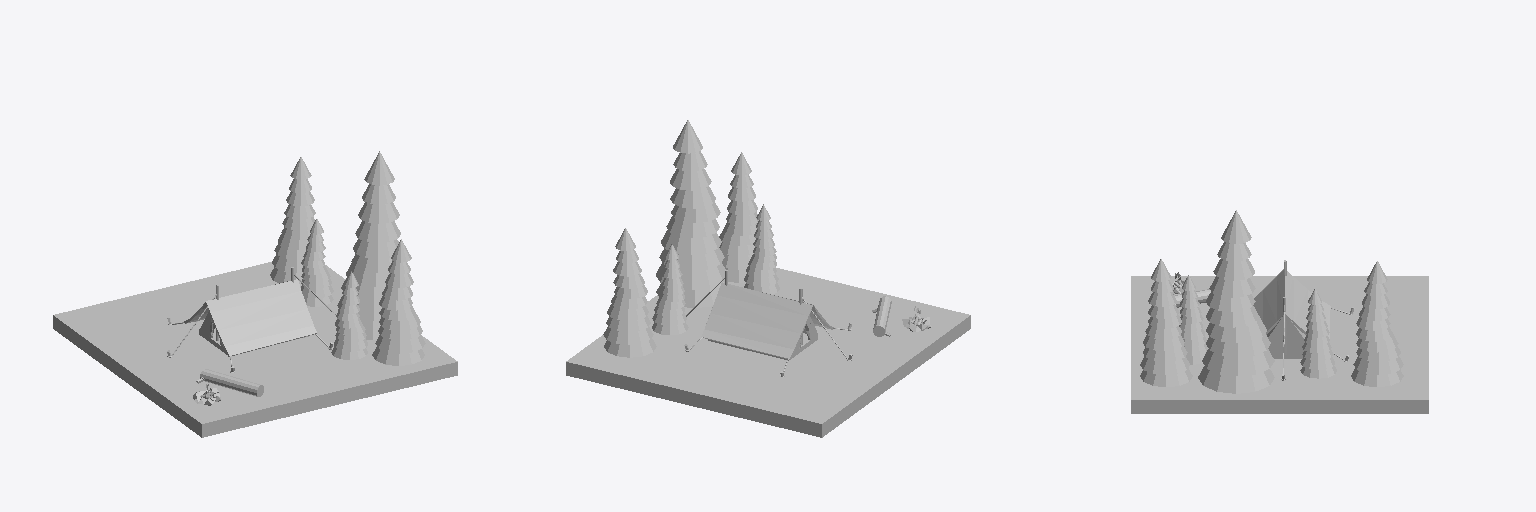
File: campsite.obj
3 views of the same model, side by side, from view 1: azimuth 30°, elevation 25°; view 2: azimuth 150°, elevation 25°; view 3: azimuth 270°, elevation 25° (orthographic).
Parts seen in each view (by area): view 1: group[number redacted], group[number redacted], group[number redacted], group[number redacted], group[number redacted], group[number redacted], group[number redacted], group[number redacted]; view 2: group[number redacted], group[number redacted], group[number redacted], group[number redacted], group[number redacted], group[number redacted], group[number redacted]; view 3: group[number redacted], group[number redacted], group[number redacted], group[number redacted], group[number redacted], group[number redacted], group[number redacted], group[number redacted], group[number redacted].
Boxes of the visible parts, box(x1,y1,x2,y2) form: group[number redacted]: box(53, 262, 457, 437); group[number redacted]: box(206, 279, 316, 356); group[number redacted]: box(335, 151, 400, 339); group[number redacted]: box(372, 239, 425, 365); group[number redacted]: box(270, 157, 315, 285); group[number redacted]: box(331, 271, 367, 359); group[number redacted]: box(301, 219, 333, 306); group[number redacted]: box(200, 369, 263, 396); group[number redacted]: box(566, 267, 970, 437); group[number redacted]: box(656, 120, 725, 307); group[number redacted]: box(701, 282, 812, 359); group[number redacted]: box(603, 228, 656, 357); group[number redacted]: box(719, 152, 758, 282); group[number redacted]: box(652, 244, 688, 334); group[number redacted]: box(744, 204, 779, 294); group[number redacted]: box(1131, 276, 1428, 413); group[number redacted]: box(1198, 210, 1274, 393); group[number redacted]: box(1140, 259, 1192, 386); group[number redacted]: box(1351, 261, 1403, 386); group[number redacted]: box(1300, 289, 1336, 378); group[number redacted]: box(1179, 275, 1208, 364); group[number redacted]: box(1285, 271, 1330, 338); group[number redacted]: box(1253, 269, 1284, 334); group[number redacted]: box(1267, 315, 1305, 353).
Bounding box in the file's own units: 1.18 × 0.8384 × 1.18.